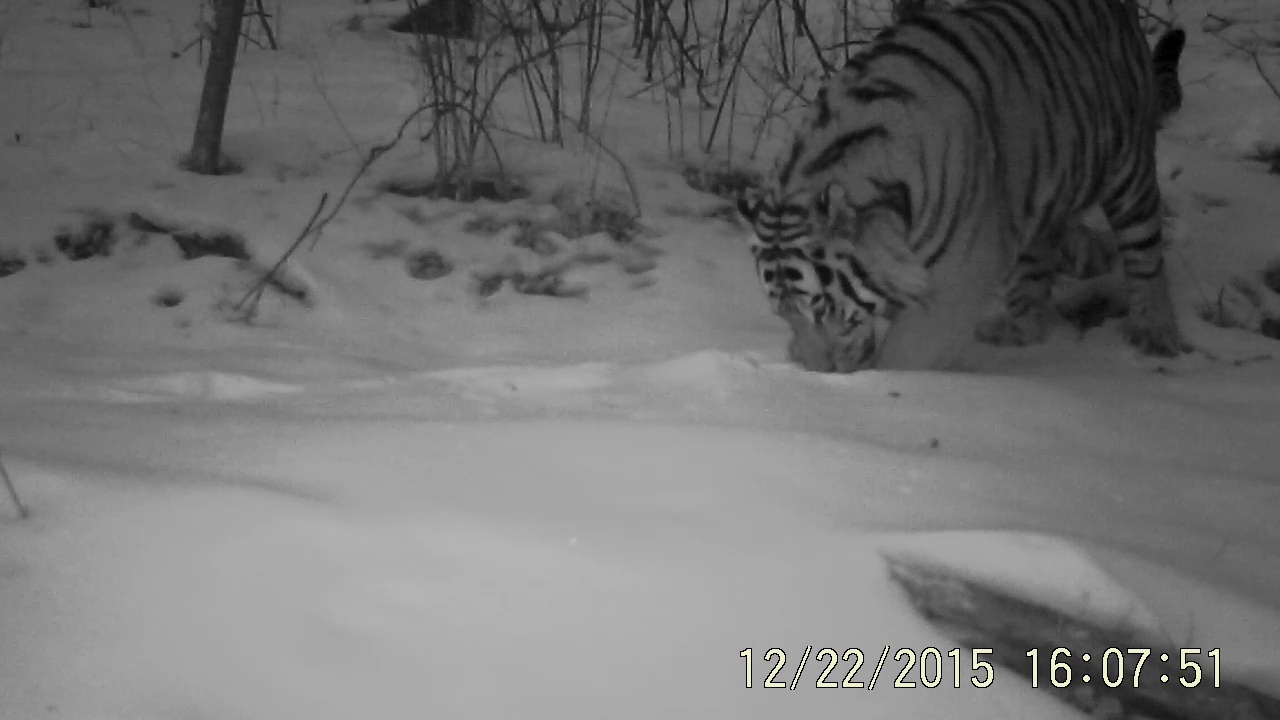Tiger: (676, 2, 1280, 436)
